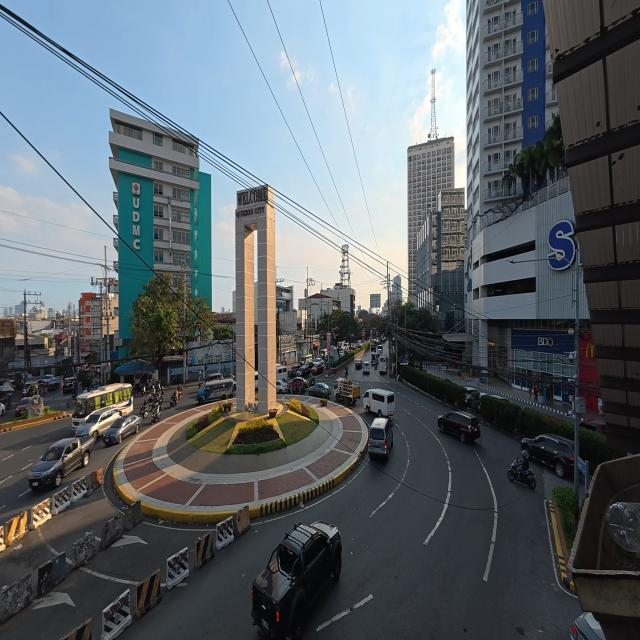Jeepneys: (196, 375, 237, 400)
car: (26, 439, 90, 493), (439, 412, 484, 444), (367, 416, 394, 462)
